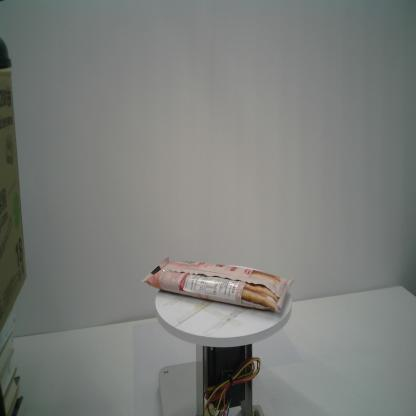Dessert: (140, 256, 295, 315)
